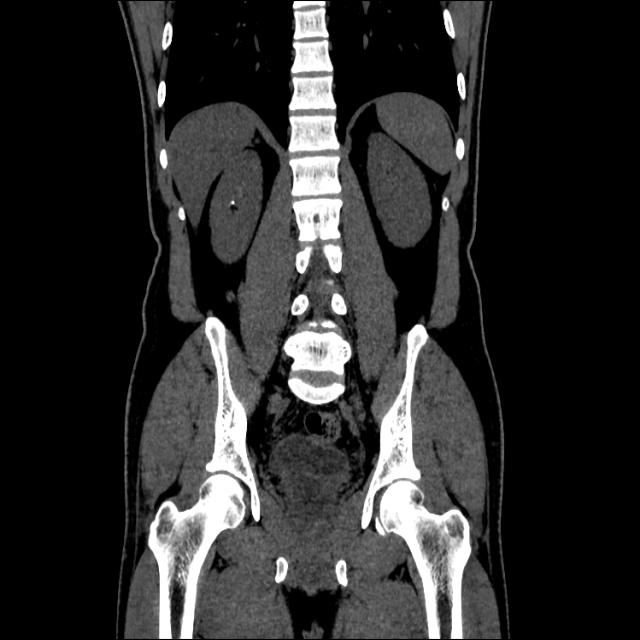kidney: (370, 134, 434, 248), (210, 146, 266, 266)
stone: (230, 199, 236, 205)
